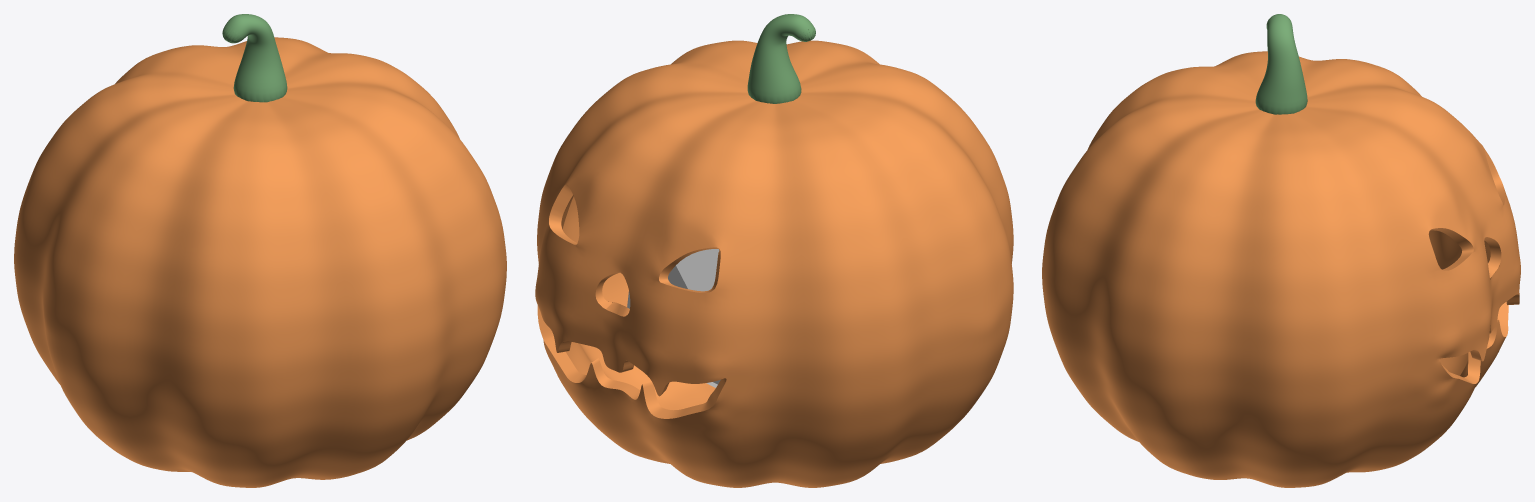
The model's file is pumpkin.glb.
3 views of the same model, side by side, from view 1: azimuth 30°, elevation 25°; view 2: azimuth 150°, elevation 25°; view 3: azimuth 270°, elevation 25° (orthographic). The views are drawn at different scales.
Visible parts, largest first — view 1: Sphere; view 2: Sphere, Icosphere.003; view 3: Sphere.
Boxes of the visible parts, x1=… form: Sphere: x1=14, y1=14, x2=506, y2=487; Sphere: x1=535, y1=14, x2=1013, y2=487; Icosphere.003: x1=627, y1=249, x2=720, y2=387; Sphere: x1=1042, y1=14, x2=1520, y2=487.
Size of the model in its own units: 1.4 by 1.34 by 1.4.
